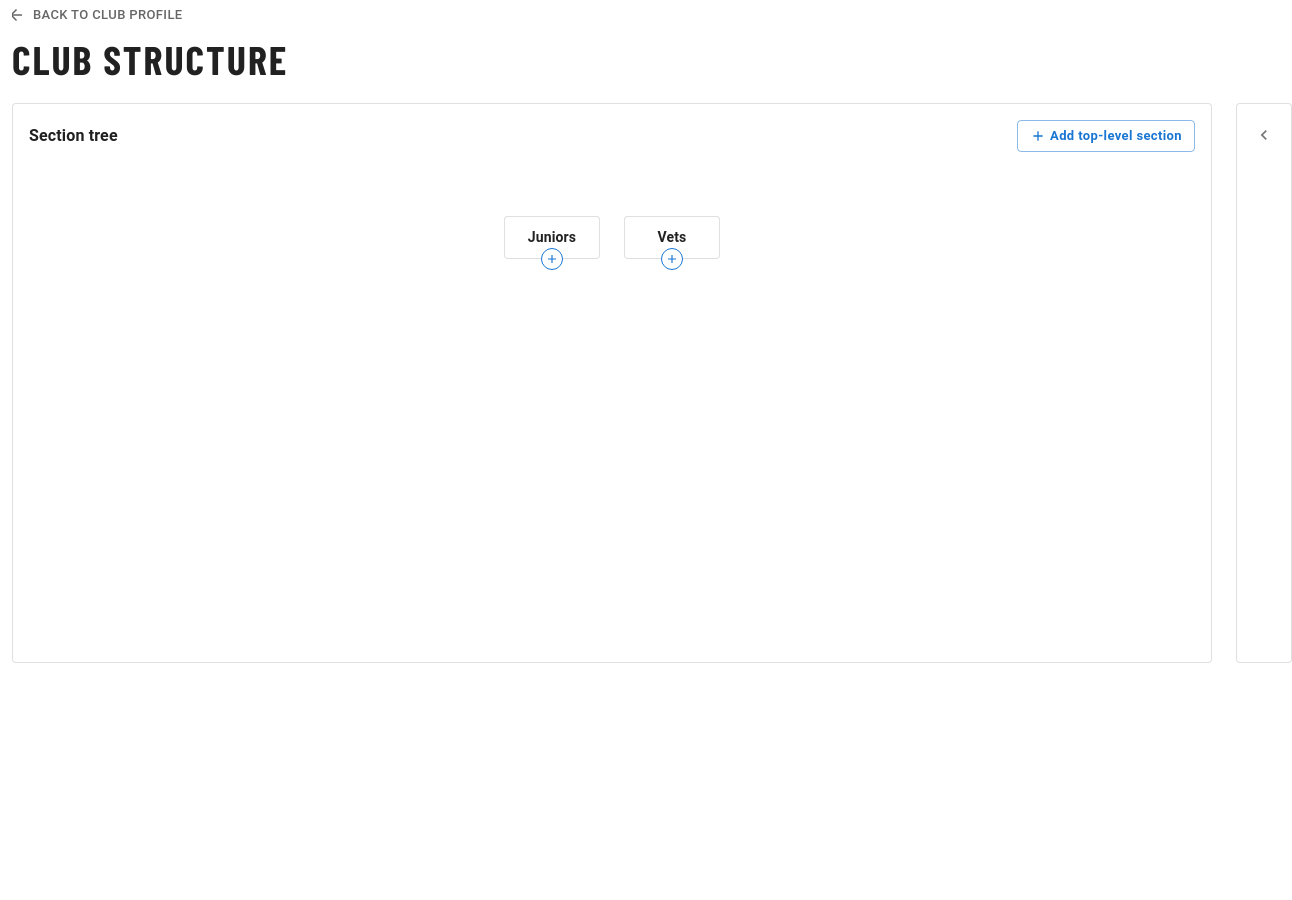
Scenario: ClubStructure › removing a section with nothing attached (deactivateSection resolves null) clears the selection instead of showing the removed node's detail panel
Step 1. Click the button "Juniors" → (552, 237), box [504, 216, 600, 259]
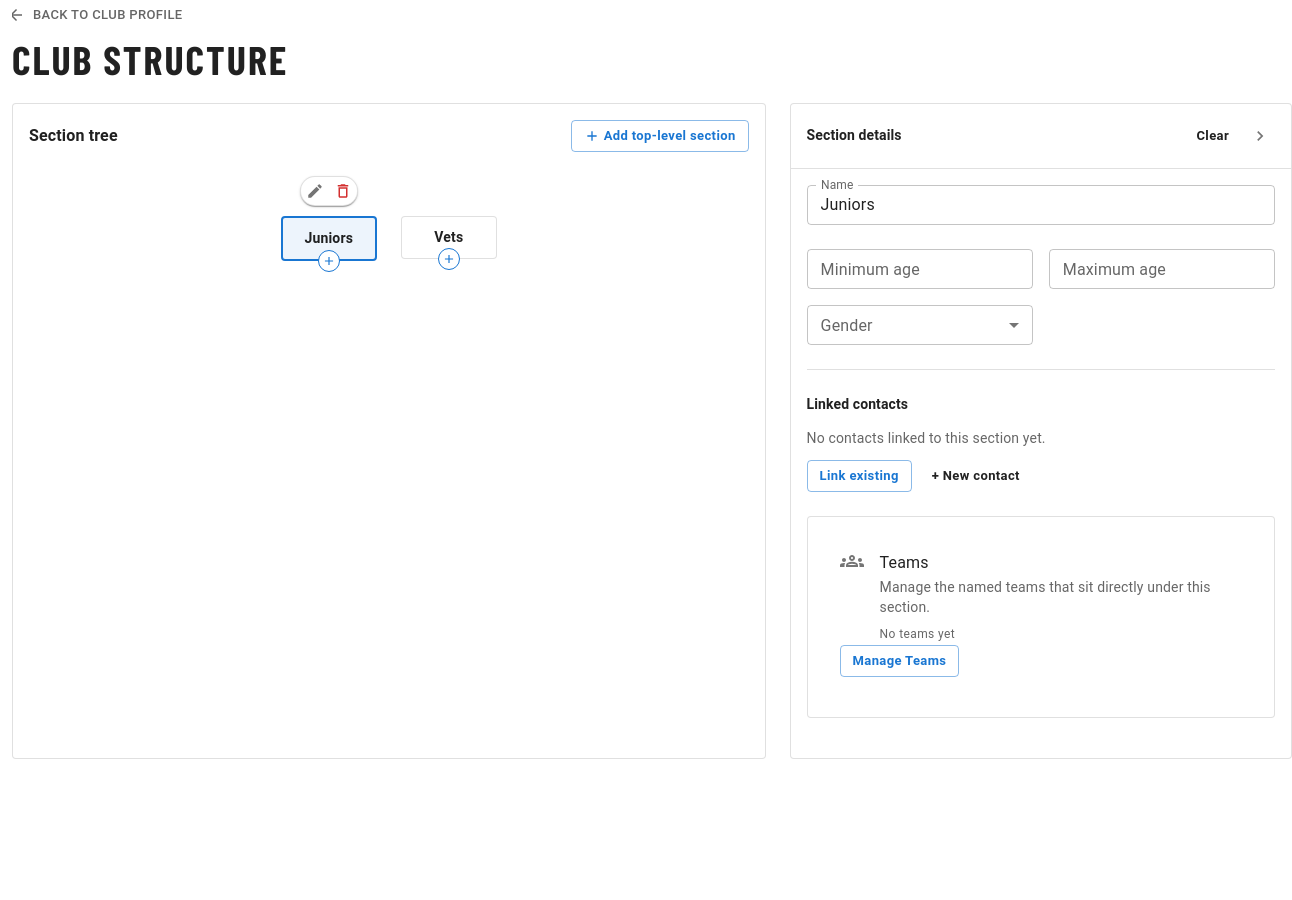
Now the field labelled "Name" is shown, box [807, 185, 1275, 225]
Step 2. Click the button named "Remove Juniors" → (343, 191), box [329, 177, 357, 205]
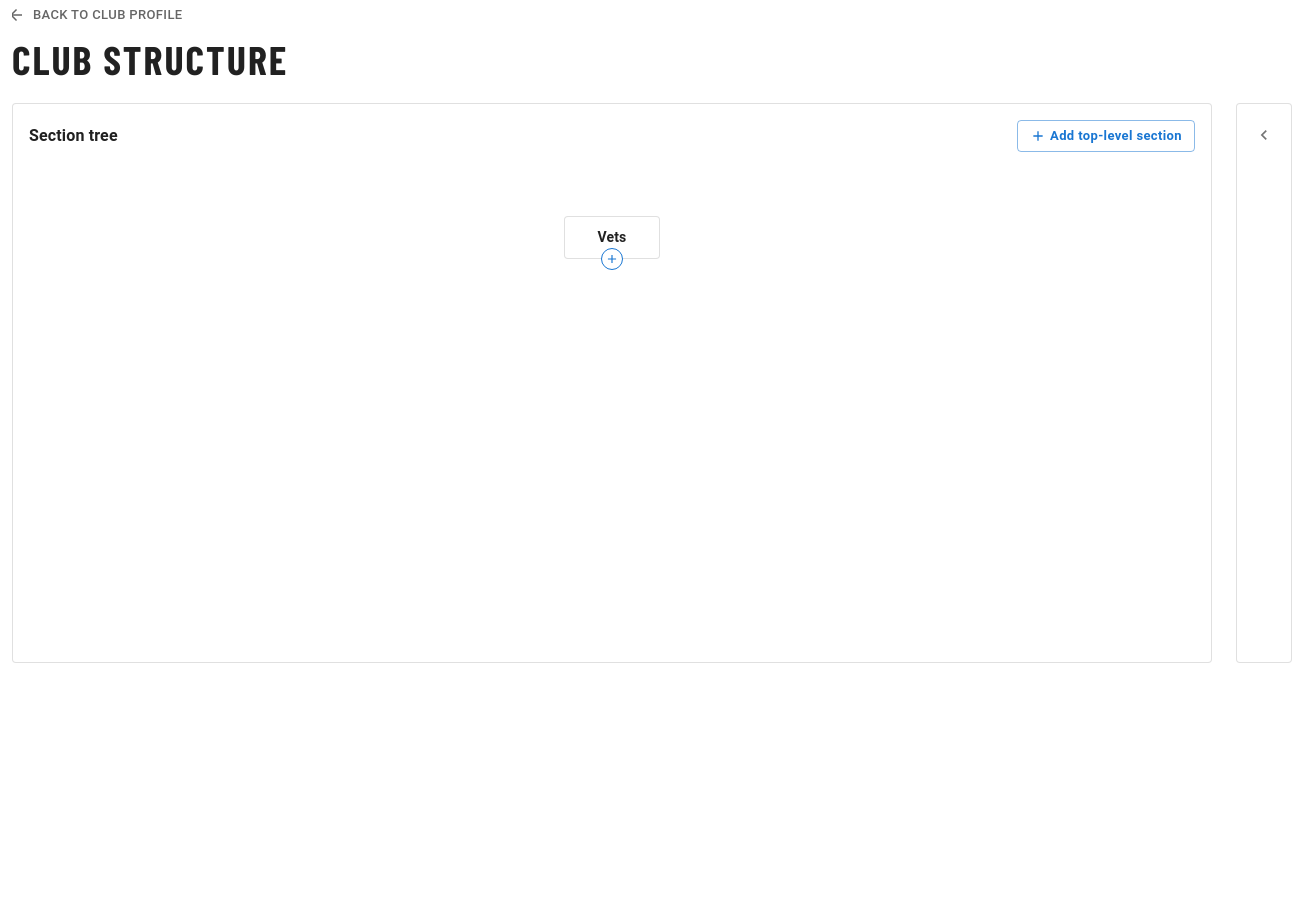
Now the button named "Expand section details" is shown, box [1249, 120, 1279, 150]
